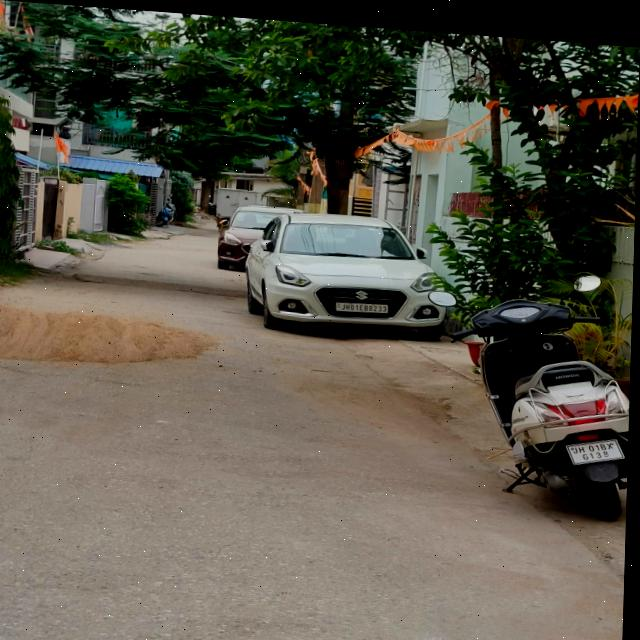bike: (430, 262, 635, 510), (218, 200, 297, 268), (159, 194, 178, 227)
car: (248, 198, 454, 342)
